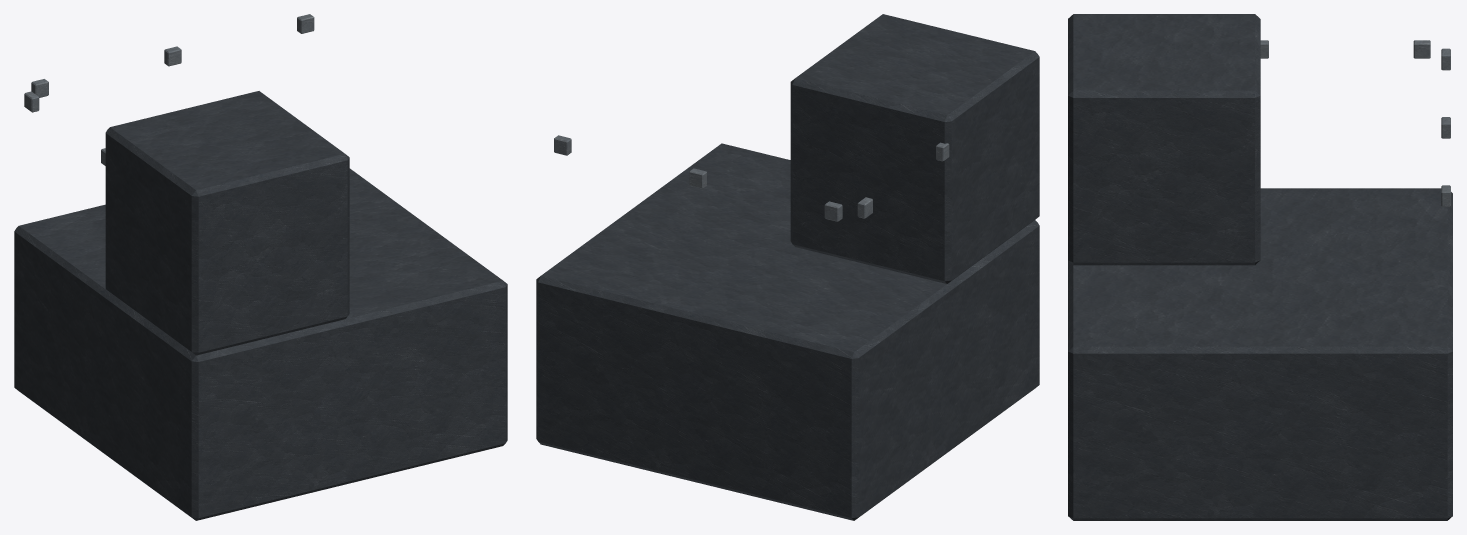
Rendered from train_dark_steel_outer_corner.gltf.
3 views of the same model, side by side, from view 1: azimuth 30°, elevation 25°; view 2: azimuth 150°, elevation 25°; view 3: azimuth 270°, elevation 25° (orthographic). The views are drawn at different scales.
Bounding box in the file's own units: 1 × 1 × 1.
2 materials, 2 textured.
